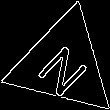N_NE: (31, 32, 94, 96)
